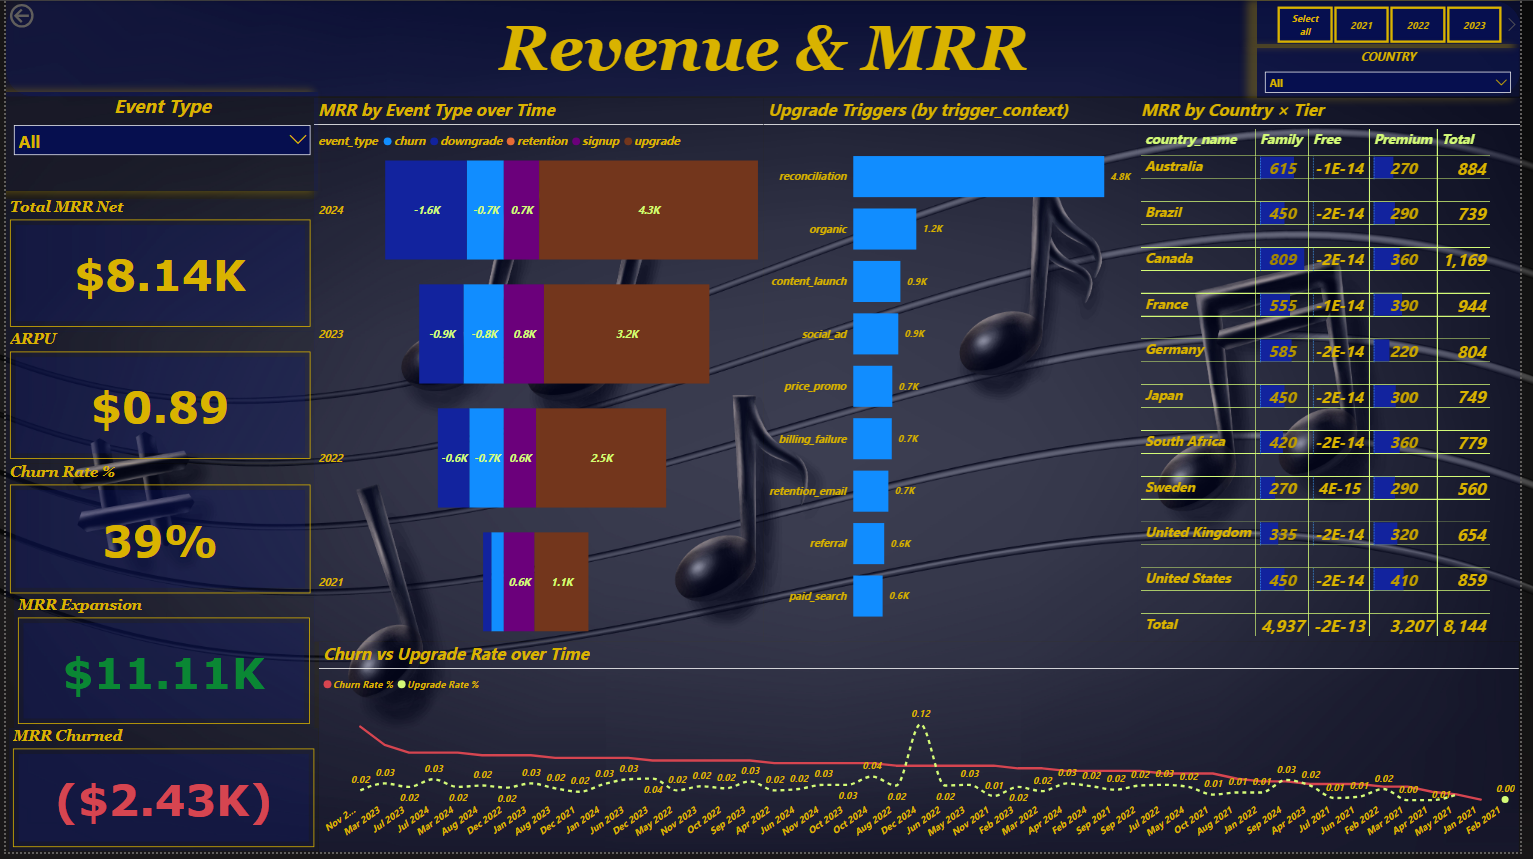

The page's visual inventory and layout, read from the dashboard file:
{"tool":"powerbi","page":{"name":"Revenue & MRR","canvas":[1920,1080],"ordinal":2},"visuals":[{"type":"shape","box":[0,1.5,1920,121.1],"z":0},{"type":"actionButton","box":[0,0,100,40],"z":1000},{"type":"cardVisual","title":"Total MRR Net","fields":{"Data":["bridge_playlist_track.MRR Net Change"]},"box":[0,252.4,391,167.8],"z":1000,"group":"g2"},{"type":"cardVisual","title":"ARPU","fields":{"Data":["bridge_playlist_track.ARPU"]},"box":[0,420.2,391,167.8],"z":2000,"group":"g2"},{"type":"lineChart","title":"Churn vs Upgrade Rate over Time","fields":{"Category":["dim_date.Month-Year"],"Y":["bridge_playlist_track.Churn Rate %"],"Y2":["bridge_playlist_track.Upgrade Rate %"]},"box":[396.3,813.7,1520.9,266.1],"z":2000},{"type":"group","id":"g1","title":"Group 2","box":[1585.9,1.5,334.1,122.6],"z":3000},{"type":"cardVisual","title":"Churn Rate %","fields":{"Data":["bridge_playlist_track.Churn Rate"]},"box":[0,588,391,169.2],"z":3000,"group":"g2"},{"type":"group","id":"g2","title":"Group 3","box":[0,252.4,396.8,827.2],"z":4000},{"type":"cardVisual","title":"MRR Expansion","fields":{"Data":["bridge_playlist_track.MRR Expansion"]},"box":[10.2,757.2,380.8,166.3],"z":4000,"group":"g2"},{"type":"barChart","title":"MRR by Event Type over Time","fields":{"Category":["dim_date.full_date.Variation.Date Hierarchy.Year","dim_date.full_date.Variation.Date Hierarchy.Quarter","dim_date.full_date.Variation.Date Hierarchy.Month","dim_date.full_date.Variation.Date Hierarchy.Day"],"Y":["bridge_playlist_track.MRR Net Change"],"Series":["fact_subscription_event.event_type"]},"box":[390.7,124.6,570,689],"z":5000},{"type":"cardVisual","title":"MRR Churned","fields":{"Data":["bridge_playlist_track.MRR Churned"]},"box":[4.4,923.5,392.5,156.1],"z":5000,"group":"g2"},{"type":"pivotTable","title":"MRR by Country × Tier","fields":{"Rows":["dim_country.country_name"],"Columns":["dim_user.subscription_tier"],"Values":["bridge_playlist_track.MRR Net Change"]},"box":[1434,124.6,486,689],"z":6000},{"type":"clusteredBarChart","title":"Upgrade Triggers (by trigger_context)","fields":{"Category":["fact_subscription_event.trigger_context"],"Y":["bridge_playlist_track.MRR Expansion"]},"box":[960.7,124.6,473.3,689],"z":7000},{"type":"slicer","title":"Event Type","fields":{"Values":["fact_subscription_event.event_type"]},"box":[0,116.2,396.3,124.6],"z":8000},{"type":"slicer","fields":{"Values":["dim_date.year"]},"box":[1585.9,1.5,334.1,55.4],"z":11000,"group":"g1"},{"type":"slicer","title":"COUNTRY","fields":{"Values":["dim_country.country_name"]},"box":[1585.9,61.3,332,62.7],"z":12000,"group":"g1"}]}

Visuals, with their boxes in screenshot pixels (x1, y1, x2, y2), scaled from the page's 1920x1080 canvas onto the 1533x859 screenshot:
shape: pyautogui.locateOnScreen(0, 1, 1532, 98)
actionButton: pyautogui.locateOnScreen(0, 0, 80, 32)
"Total MRR Net" cardVisual: pyautogui.locateOnScreen(0, 201, 312, 334)
"ARPU" cardVisual: pyautogui.locateOnScreen(0, 334, 312, 468)
"Churn vs Upgrade Rate over Time" lineChart: pyautogui.locateOnScreen(316, 647, 1531, 858)
"Group 2" group: pyautogui.locateOnScreen(1266, 1, 1532, 99)
"Churn Rate %" cardVisual: pyautogui.locateOnScreen(0, 468, 312, 602)
"Group 3" group: pyautogui.locateOnScreen(0, 201, 317, 858)
"MRR Expansion" cardVisual: pyautogui.locateOnScreen(8, 602, 312, 735)
"MRR by Event Type over Time" barChart: pyautogui.locateOnScreen(312, 99, 767, 647)
"MRR Churned" cardVisual: pyautogui.locateOnScreen(4, 735, 317, 858)
"MRR by Country × Tier" pivotTable: pyautogui.locateOnScreen(1145, 99, 1532, 647)
"Upgrade Triggers (by trigger_context)" clusteredBarChart: pyautogui.locateOnScreen(767, 99, 1145, 647)
"Event Type" slicer: pyautogui.locateOnScreen(0, 92, 316, 192)
slicer - dim_date.year: pyautogui.locateOnScreen(1266, 1, 1532, 45)
"COUNTRY" slicer: pyautogui.locateOnScreen(1266, 49, 1531, 99)
